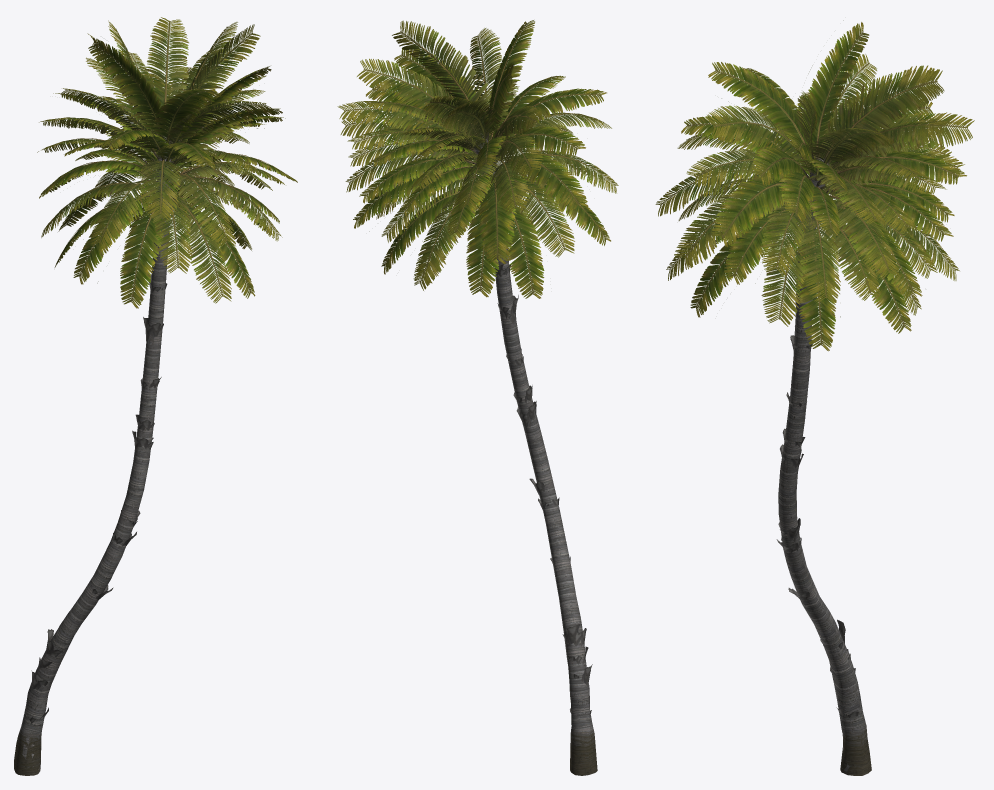
File: cargo_palm_d.glb
The picture shows the model from 3 angles, left to right: view 1: azimuth 30°, elevation 25°; view 2: azimuth 150°, elevation 25°; view 3: azimuth 270°, elevation 25°; orthographic projection. The views are drawn at different scales.
Parts seen in each view (by area): view 1: KB3D_TIS_Palm_D_Main; view 2: KB3D_TIS_Palm_D_Main; view 3: KB3D_TIS_Palm_D_Main.
Part boxes in pixels (x1,y1,x2,y2): KB3D_TIS_Palm_D_Main: (14,17,297,775); KB3D_TIS_Palm_D_Main: (337,20,618,775); KB3D_TIS_Palm_D_Main: (655,20,974,775).
Size of the model in its own units: 4.13 by 10.88 by 4.09.
1 material, 1 textured.
